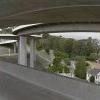Bridge: (5, 6, 95, 68)
